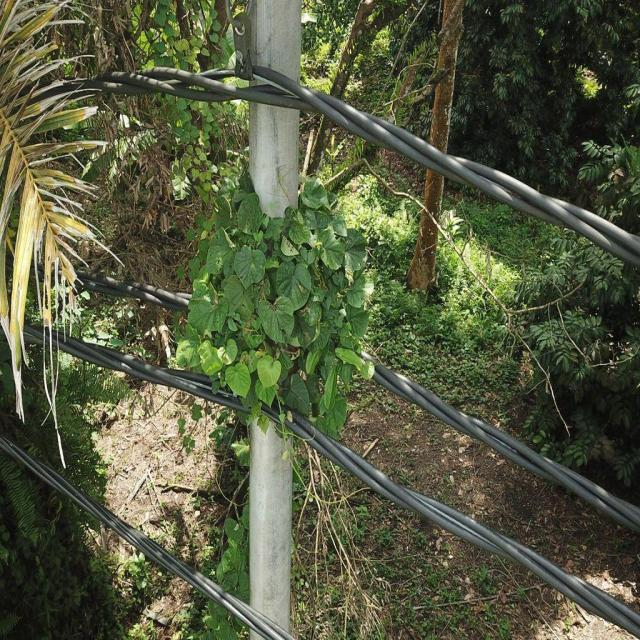light_pole: (168, 162, 380, 458)
